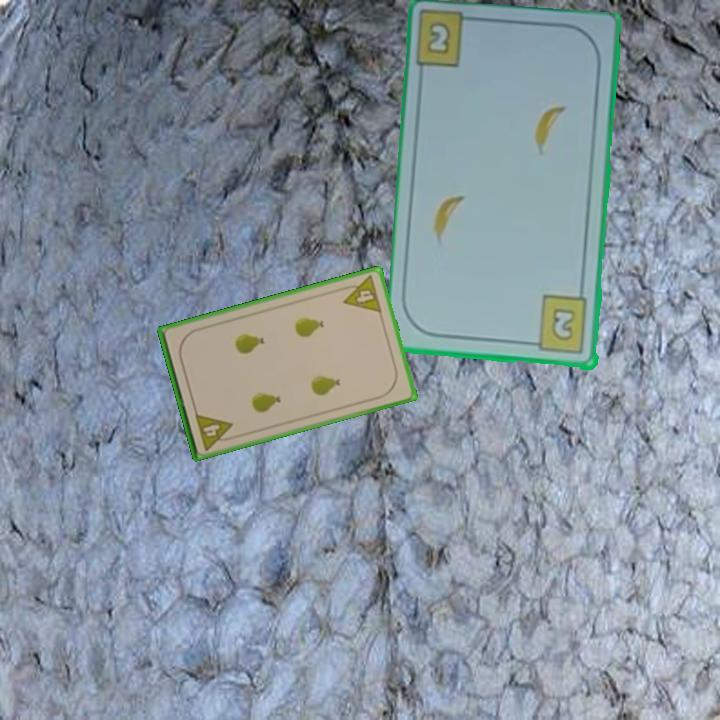2b: (526, 293, 591, 357), (423, 18, 454, 58)
4p: (337, 272, 385, 316), (191, 409, 238, 453)
